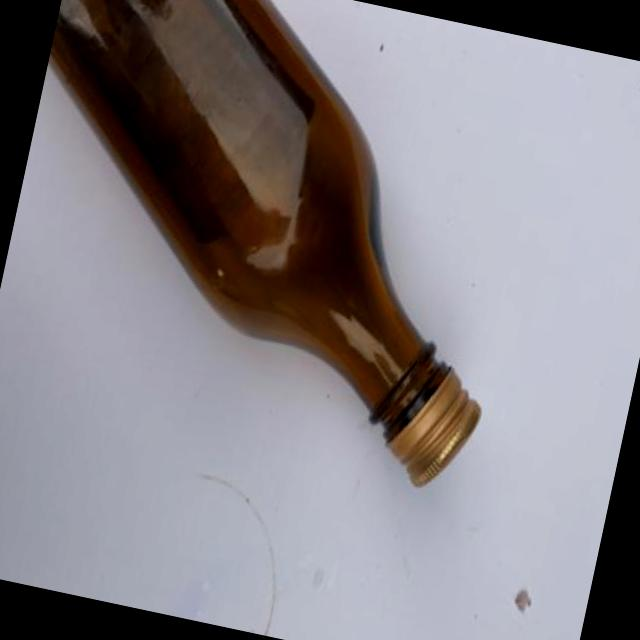chai_thuy_tinh: (48, 0, 447, 441)
kim_loai: (389, 369, 478, 487)
